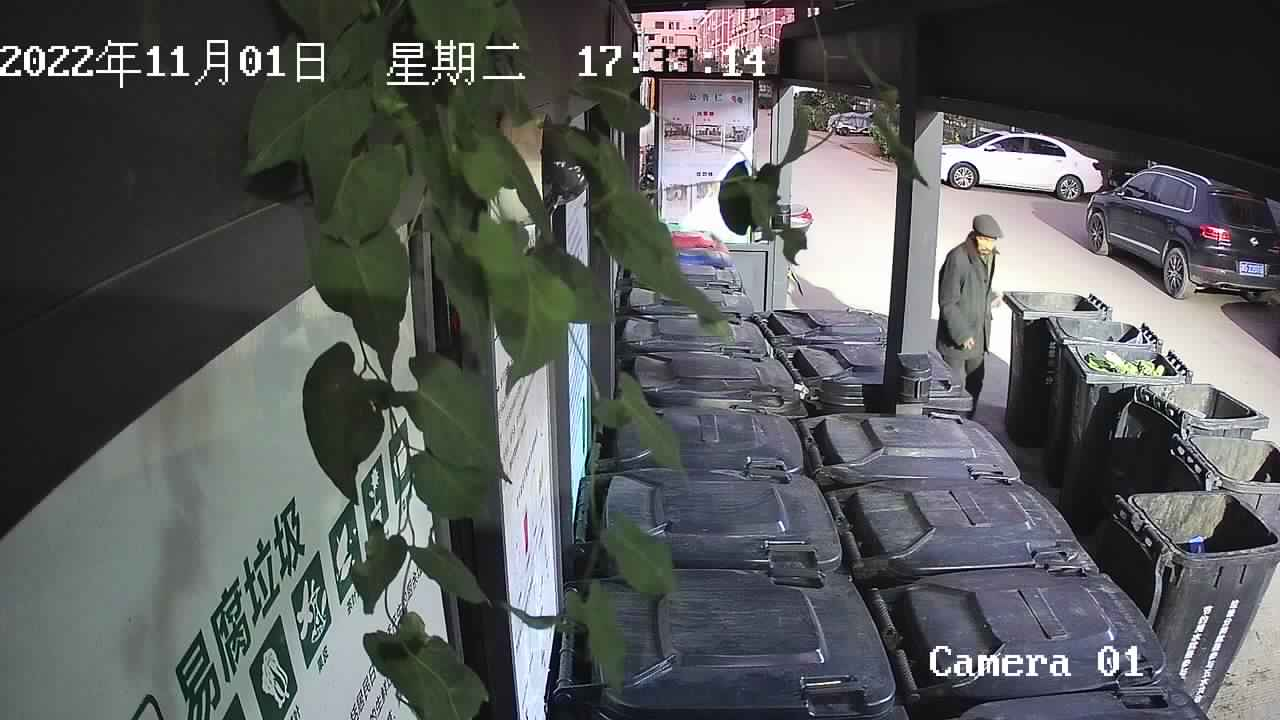person: (936, 213, 1004, 424)
